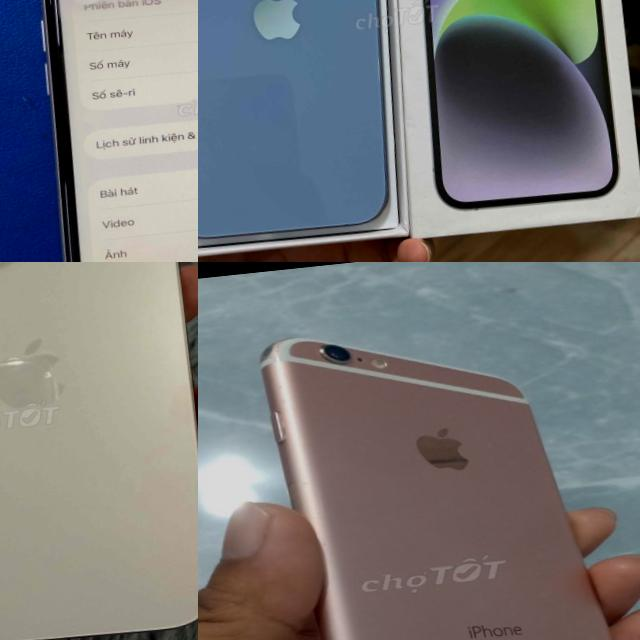gen_14: (198, 0, 410, 258)
gen_16: (0, 262, 198, 640)
gen_6: (243, 285, 640, 640)
gen_7_8: (39, 0, 198, 262)
